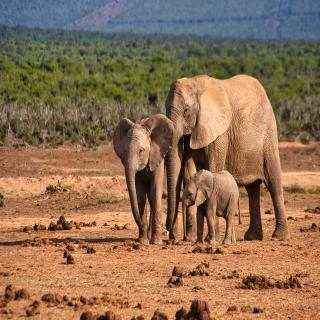Elephant: (162, 70, 297, 248), (112, 110, 177, 248), (179, 168, 245, 248)
